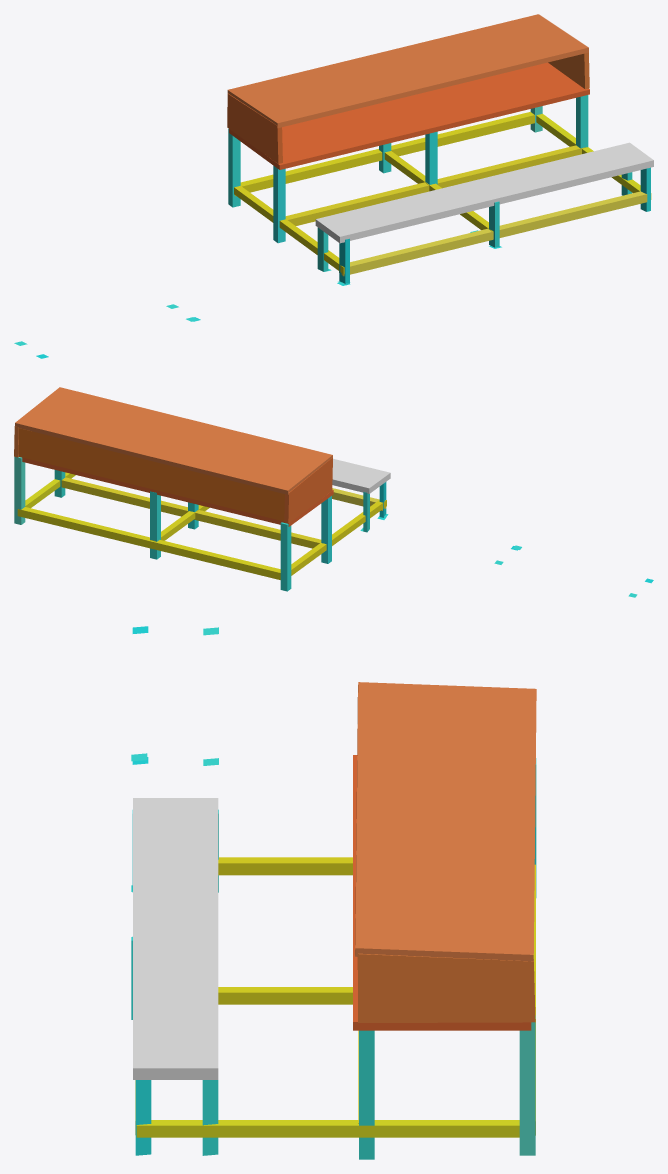
3 views of the same model, one above another, from view 1: azimuth 30°, elevation 25°; view 2: azimuth 150°, elevation 25°; view 3: azimuth 270°, elevation 25° (orthographic). The views are drawn at different scales.
Visible parts, largest first — view 1: Plane.002, Plane, Plane.005, Cube.017, Cube.007, Cube.006, Plane.003, Cube.010, Cube.008, Cube.004, Plane.001, Cube.001 (+6 smaller); view 2: Plane.002, Plane.004, Cube.007, Cube.006, Plane.003, Plane, Plane.005, Cube.010, Cube.001, Cube.002, Cube.004, Cube (+4 smaller); view 3: Plane.002, Plane.005, Plane.001, Cube.009, Cube.010, Plane, Cube.008, Cube.002, Cube.003, Cube.011, Cube.014.
Boxes of the visible parts, box(x1,y1,x2,y2) form: Plane.002: box(227, 14, 588, 127); Plane: box(229, 62, 589, 169); Plane.005: box(315, 142, 653, 243); Cube.017: box(339, 191, 647, 276); Cube.007: box(235, 112, 534, 196); Cube.006: box(285, 145, 586, 225); Plane.003: box(227, 93, 282, 163); Cube.010: box(234, 186, 344, 274); Cube.008: box(384, 151, 493, 231); Cube.004: box(273, 165, 285, 243); Plane.001: box(548, 52, 589, 89); Cube.001: box(228, 128, 240, 207); Plane.002: box(15, 387, 332, 494); Plane.004: box(18, 428, 284, 521); Cube.007: box(17, 507, 280, 579); Cube.006: box(61, 477, 321, 548); Plane.003: box(284, 457, 332, 523); Plane: box(22, 457, 333, 526); Plane.005: box(332, 458, 390, 493); Cube.010: box(291, 500, 386, 575); Cube.001: box(280, 522, 291, 591); Cube.002: box(14, 456, 25, 524); Cube.004: box(321, 496, 331, 563); Cube: box(150, 491, 160, 559); Plane.002: box(355, 682, 536, 961); Plane.005: box(133, 798, 218, 1079); Plane.001: box(357, 953, 535, 1022); Cube.009: box(136, 1120, 519, 1137); Cube.010: box(218, 857, 352, 875); Plane: box(353, 755, 531, 1030); Cube.008: box(218, 987, 352, 1004); Cube.002: box(519, 1015, 535, 1155); Cube.003: box(359, 1030, 374, 1159); Cube.011: box(135, 1080, 151, 1155); Cube.014: box(202, 1080, 218, 1155).
Size of the model in its own units: 397 by 74.51 by 128.
